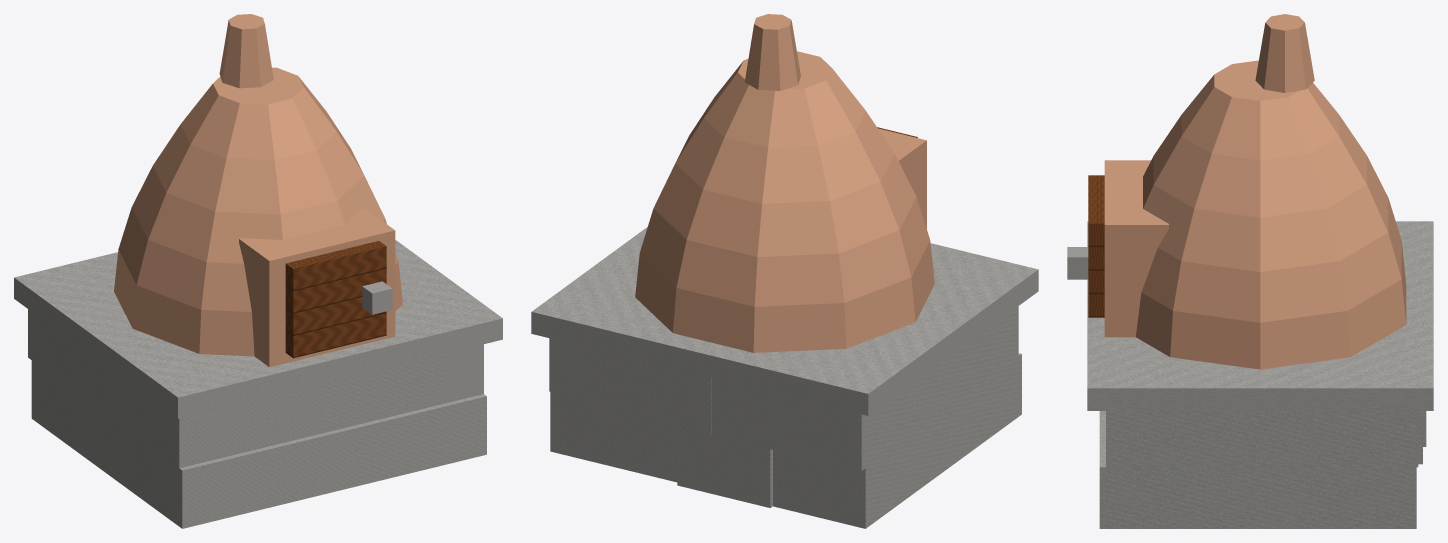
Rendered from andean-terraces-and-stone-village-clay-oven-a156ece1__38273.glb.
3 renders of one model, left to right at view 1: azimuth 30°, elevation 25°; view 2: azimuth 150°, elevation 25°; view 3: azimuth 270°, elevation 25°, orthographic. The views are drawn at different scales.
Visible parts, largest first — view 1: clay-oven-stone, clay-oven-clay, door/timber, door/stone; view 2: clay-oven-stone, clay-oven-clay; view 3: clay-oven-clay, clay-oven-stone, door/timber, door/stone.
Part boxes in pixels (x1,y1,x2,y2): clay-oven-stone: (14, 240, 502, 528); clay-oven-clay: (114, 14, 402, 367); door/timber: (285, 241, 386, 358); door/stone: (362, 281, 392, 314); clay-oven-stone: (531, 227, 1038, 528); clay-oven-clay: (635, 14, 934, 352); clay-oven-clay: (1104, 14, 1406, 369); clay-oven-stone: (1087, 221, 1433, 528); door/timber: (1088, 175, 1104, 317); door/stone: (1067, 247, 1088, 279).
Size of the model in its own units: 1.6 by 1.91 by 1.48.
Materials: 3 (2 with a texture image).
